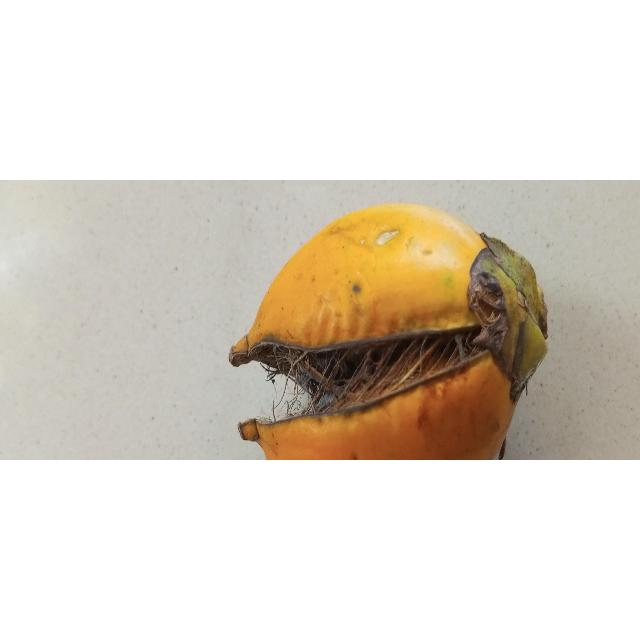damaged: (228, 203, 549, 461)
